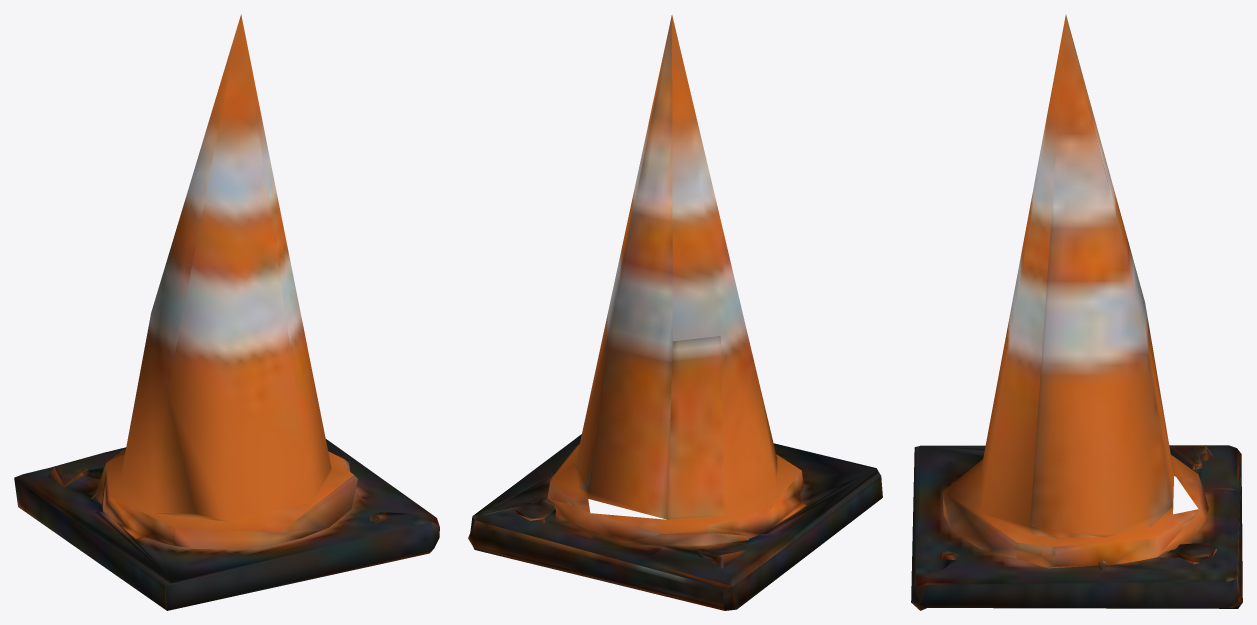
3 renders of one model, left to right at view 1: azimuth 30°, elevation 25°; view 2: azimuth 150°, elevation 25°; view 3: azimuth 270°, elevation 25°, orthographic. The views are drawn at different scales.
Visible parts, largest first — view 1: tripo_node_82dbe699-2c6b-4f17-8ff7-9a05db740597; view 2: tripo_node_82dbe699-2c6b-4f17-8ff7-9a05db740597; view 3: tripo_node_82dbe699-2c6b-4f17-8ff7-9a05db740597.
Part boxes in pixels (bbox=[...]): tripo_node_82dbe699-2c6b-4f17-8ff7-9a05db740597: bbox=[14, 14, 439, 610]; tripo_node_82dbe699-2c6b-4f17-8ff7-9a05db740597: bbox=[468, 15, 882, 610]; tripo_node_82dbe699-2c6b-4f17-8ff7-9a05db740597: bbox=[911, 15, 1242, 610].
Size of the model in its own units: 0.4139 by 0.7471 by 0.4183.
Materials: 1 (1 with a texture image).
